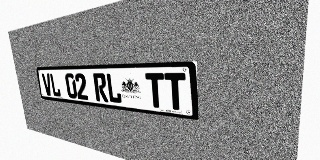0: (64, 73, 78, 99)
2: (74, 73, 88, 100)
L: (105, 73, 122, 104), (49, 73, 61, 97)
R: (93, 73, 108, 102)
T: (164, 73, 187, 111), (145, 73, 166, 109)
V: (41, 73, 53, 96)
